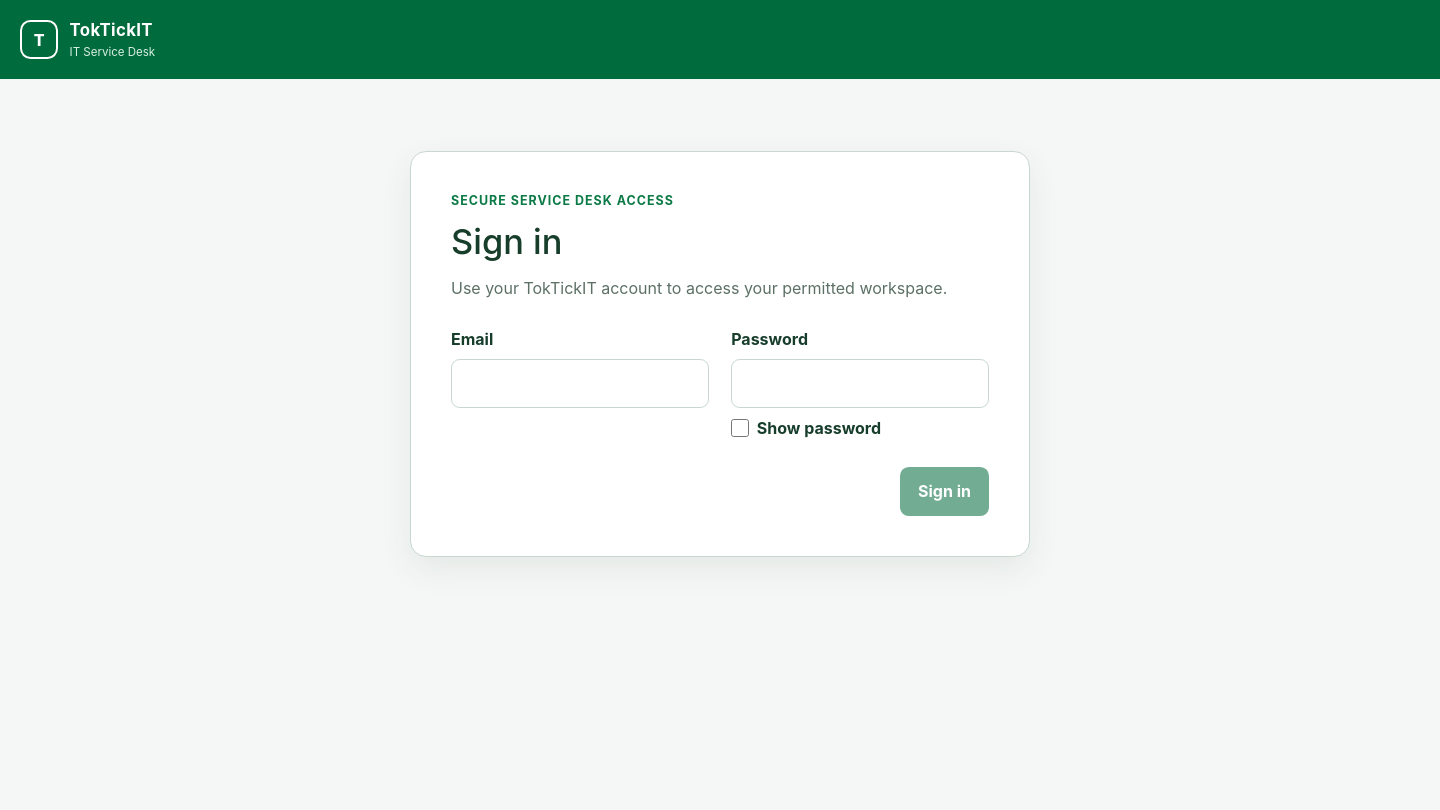
Scenario: Lab 3 authenticated Requester UI › keeps the authenticated workspace visible and offers retry when logout fails
This screenshot has width=1440, height=810.
Step 1. Type "amina@example.test" into the field labelled "Email" → (580, 384), box [451, 359, 709, 408]
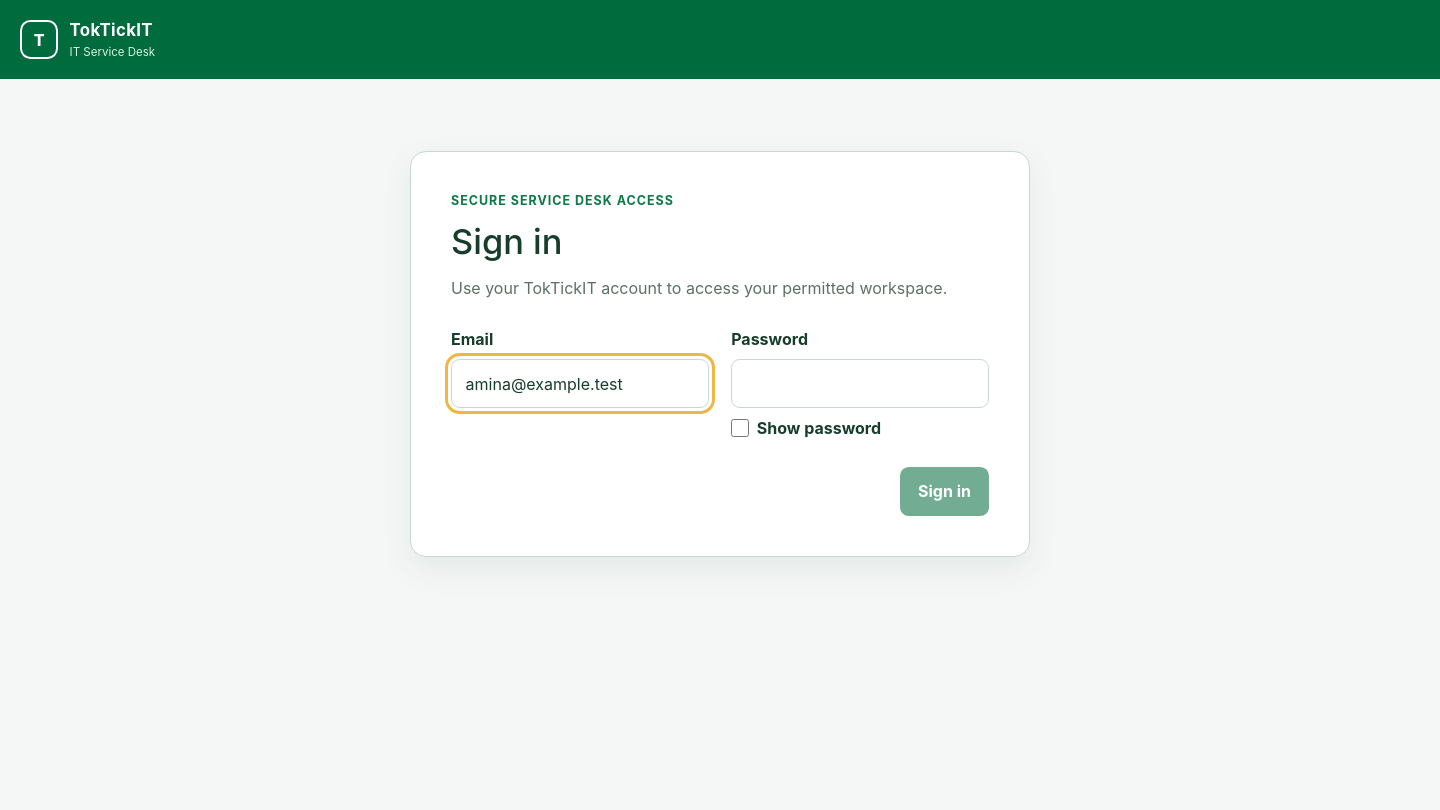
Step 2. Type "Initial-Lab3!Password" into the password field labelled "Password" → (860, 384), box [731, 359, 989, 408]
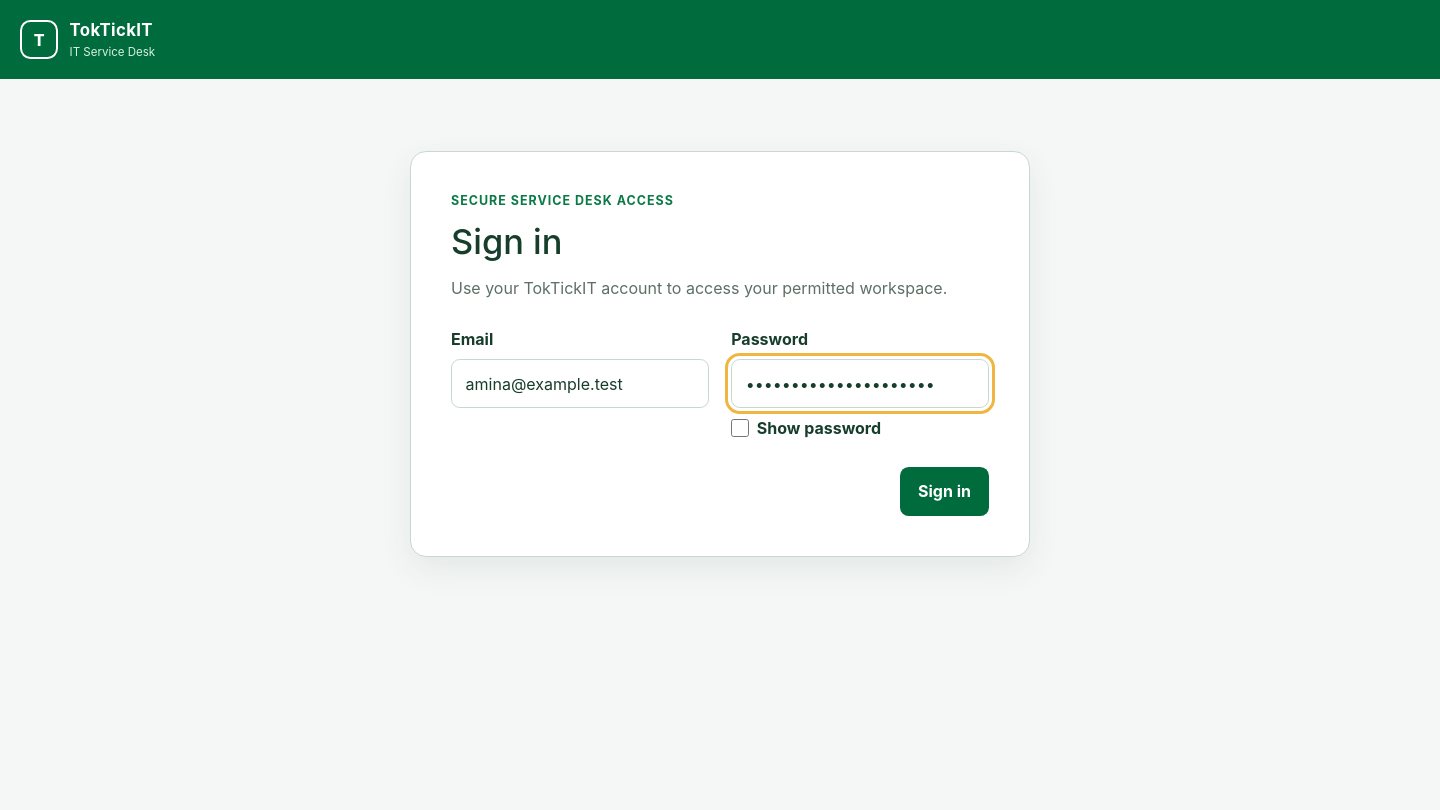
Step 3. Click the button "Sign in" → (944, 491), box [900, 467, 989, 516]
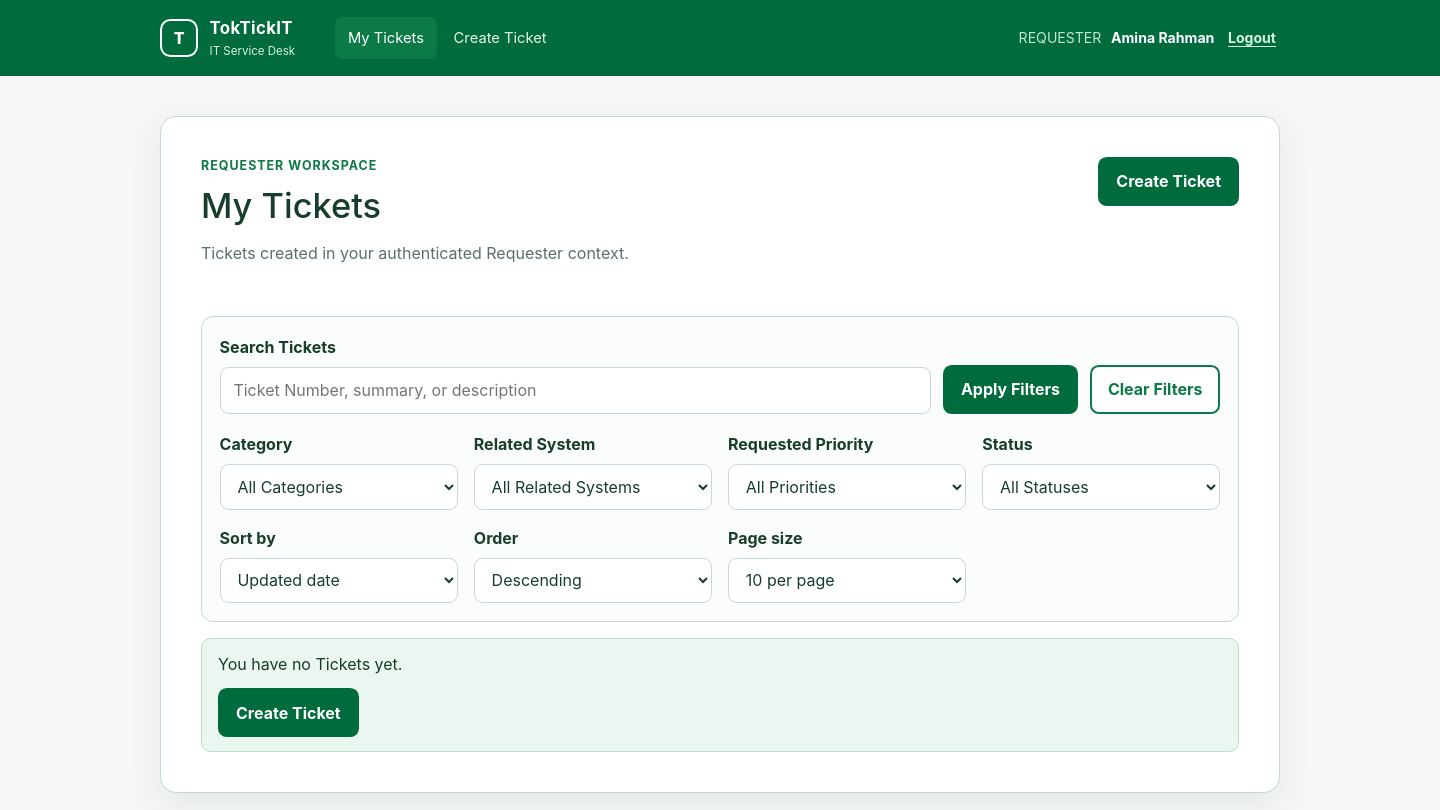
Expected: the heading "My Tickets" is shown, [201, 185, 381, 226]
Step 4. Click the button "Logout" → (1252, 38), box [1224, 24, 1280, 53]
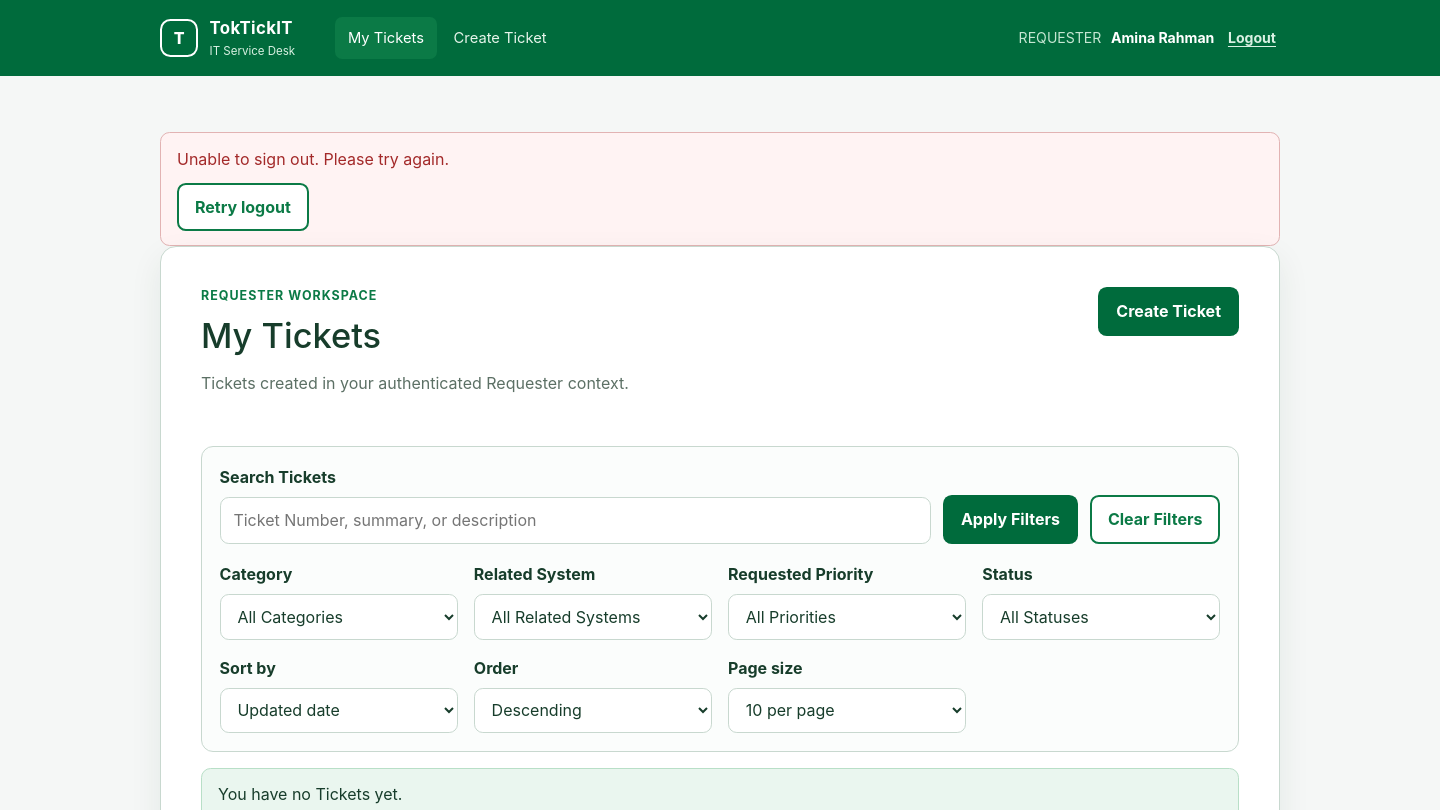
Expected: the heading "My Tickets" is shown, [201, 315, 381, 356]
Expected: the message "Unable to sign out. Please try again. Retry logout" is shown, [160, 132, 1280, 246]
Step 5. Click the button "Retry logout" → (243, 207), box [177, 183, 309, 231]
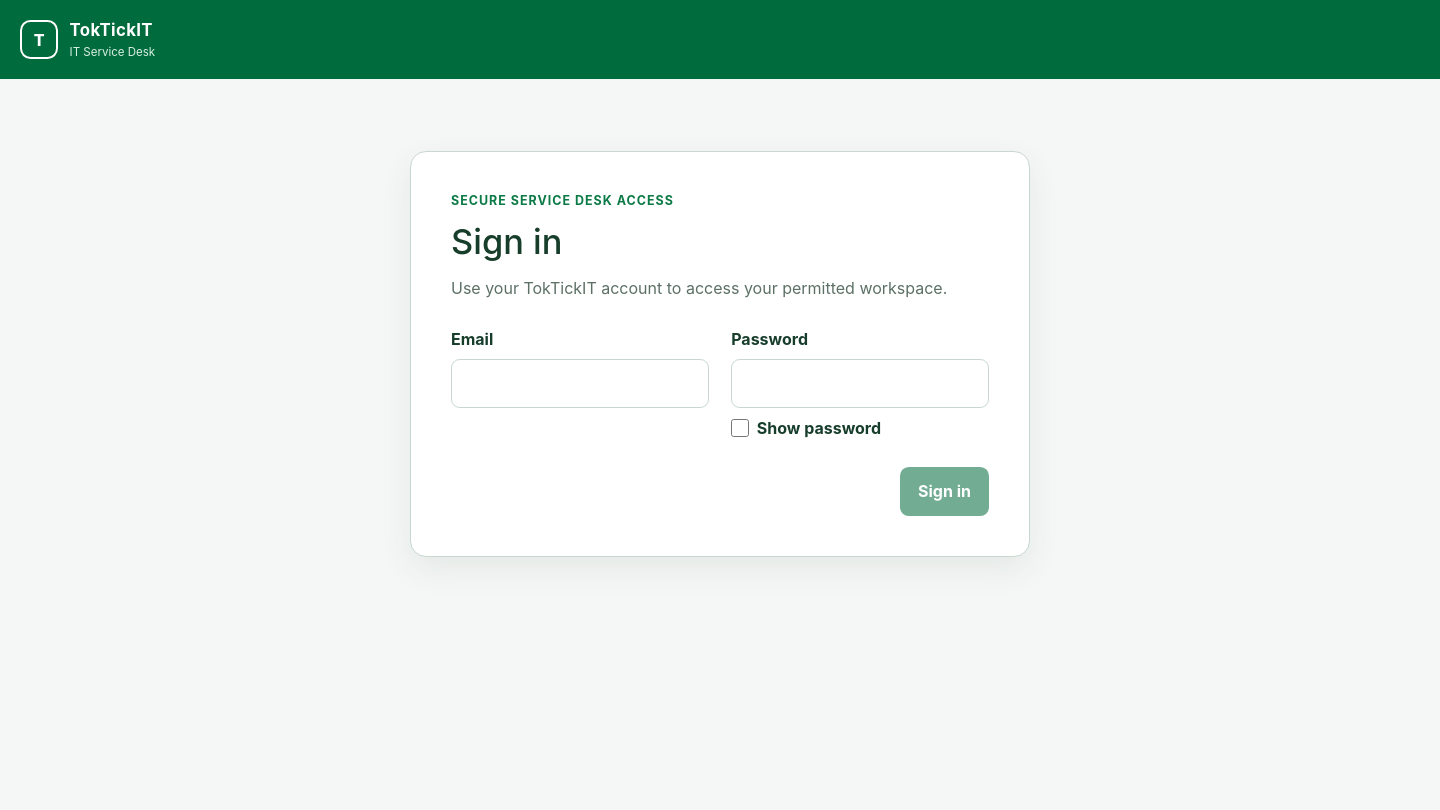
Expected: the heading "Sign in" is shown, [451, 220, 562, 262]
